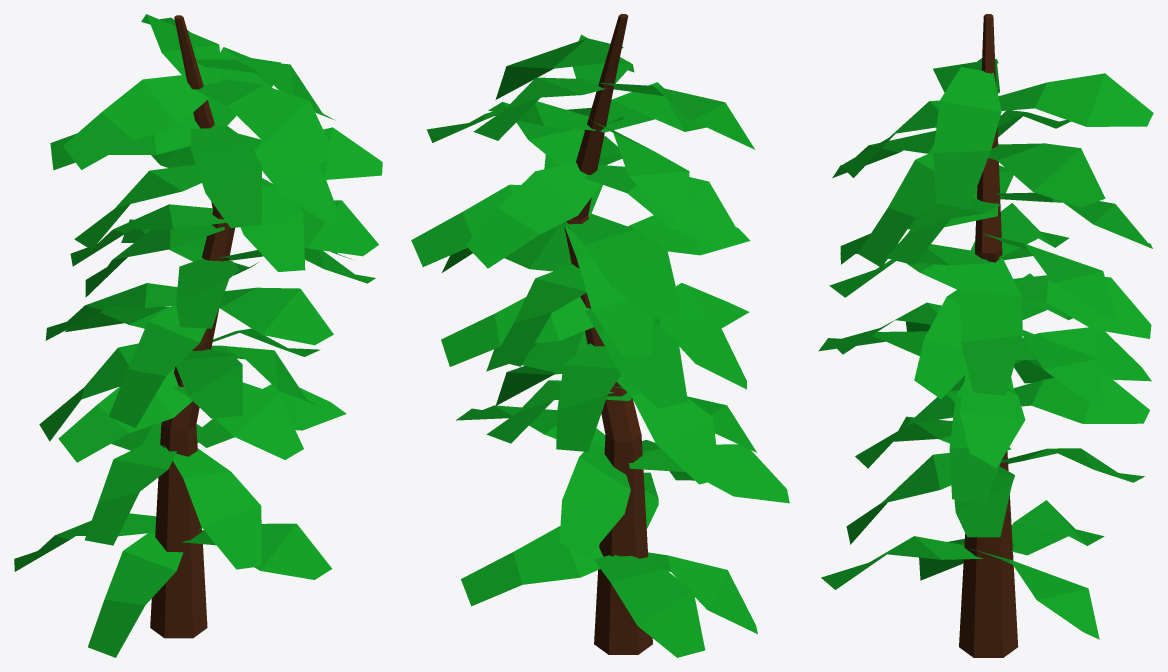
The model's file is Tree1.fbx.
The picture shows the model from 3 angles, left to right: view 1: azimuth 30°, elevation 25°; view 2: azimuth 150°, elevation 25°; view 3: azimuth 270°, elevation 25°; orthographic projection. The views are drawn at different scales.
Visible parts, largest first — view 1: Cylinder, Plane.040, Plane.006, Plane.041, Plane.037, Plane.014, Plane.022, Plane.019, Plane.003, Plane.008, Plane.009, Plane.015 (+24 smaller); view 2: Cylinder, Plane.032, Plane.013, Plane.029, Plane.002, Plane.012, Plane.017, Plane.018, Plane.033, Plane.026, Plane.021, Plane.020 (+22 smaller); view 3: Cylinder, Plane.042, Plane.030, Plane.039, Plane.035, Plane.007, Plane.016, Plane.038, Plane.025, Plane.024, Plane.012, Plane.017 (+25 smaller).
Boxes of the visible parts, box(x1,y1,x2,y2) form: Cylinder: box(150, 15, 234, 638); Plane.040: box(63, 74, 208, 169); Plane.006: box(163, 445, 261, 569); Plane.041: box(194, 78, 334, 166); Plane.037: box(190, 125, 261, 228); Plane.014: box(88, 528, 183, 657); Plane.022: box(108, 305, 206, 427); Plane.019: box(219, 287, 333, 345); Plane.003: box(84, 441, 176, 545); Plane.008: box(58, 368, 192, 462); Plane.009: box(173, 382, 303, 459); Plane.015: box(176, 349, 242, 418); Cylinder: box(564, 14, 652, 654); Plane.032: box(466, 163, 600, 268); Plane.013: box(594, 555, 705, 657); Plane.029: box(565, 213, 680, 318); Plane.002: box(559, 441, 630, 558); Plane.012: box(461, 526, 603, 606); Plane.017: box(556, 343, 620, 451); Plane.018: box(616, 375, 720, 484); Plane.033: box(584, 164, 740, 247); Plane.026: box(564, 225, 653, 356); Plane.021: box(585, 309, 687, 408); Plane.020: box(441, 297, 593, 366); Cylinder: box(959, 14, 1018, 657); Plane.042: box(933, 67, 1001, 209); Plane.030: box(960, 258, 1022, 395); Plane.039: box(998, 73, 1153, 126); Plane.035: box(988, 143, 1105, 207); Plane.007: box(1013, 370, 1149, 423); Plane.016: box(959, 372, 1025, 467); Plane.038: box(858, 153, 935, 267); Plane.025: box(1013, 275, 1151, 338); Plane.024: box(914, 287, 967, 398); Plane.012: box(971, 549, 1099, 639); Plane.017: box(1016, 327, 1151, 381).
Size of the model in its own units: 1213 by 2362 by 1137.
